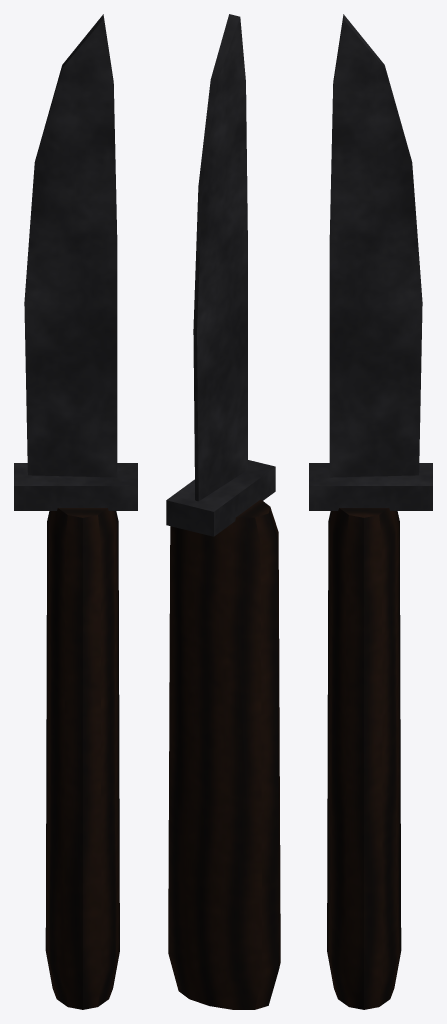
Rendered from iron_knife.glb.
The picture shows the model from 3 angles, left to right: view 1: azimuth 90°, elevation 25°; view 2: azimuth 150°, elevation 25°; view 3: azimuth 270°, elevation 25°; orthographic projection.
Parts seen in each view (by area): view 1: iron_knife; view 2: iron_knife; view 3: iron_knife.
Part boxes in pixels (<box>): iron_knife: <box>14,14,137,1009</box>; iron_knife: <box>166,14,280,1009</box>; iron_knife: <box>309,14,432,1009</box>.
Bounding box in the file's own units: 0.0364 × 0.312 × 0.036.
Materials: 2 (2 with a texture image).
